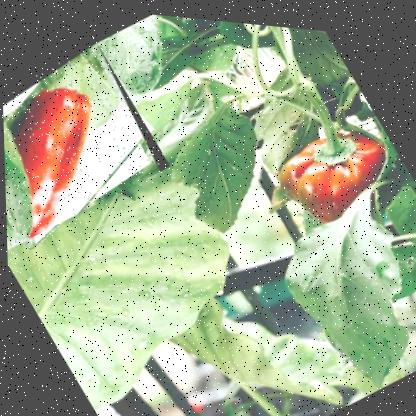capsicum: (1, 34, 172, 267)
